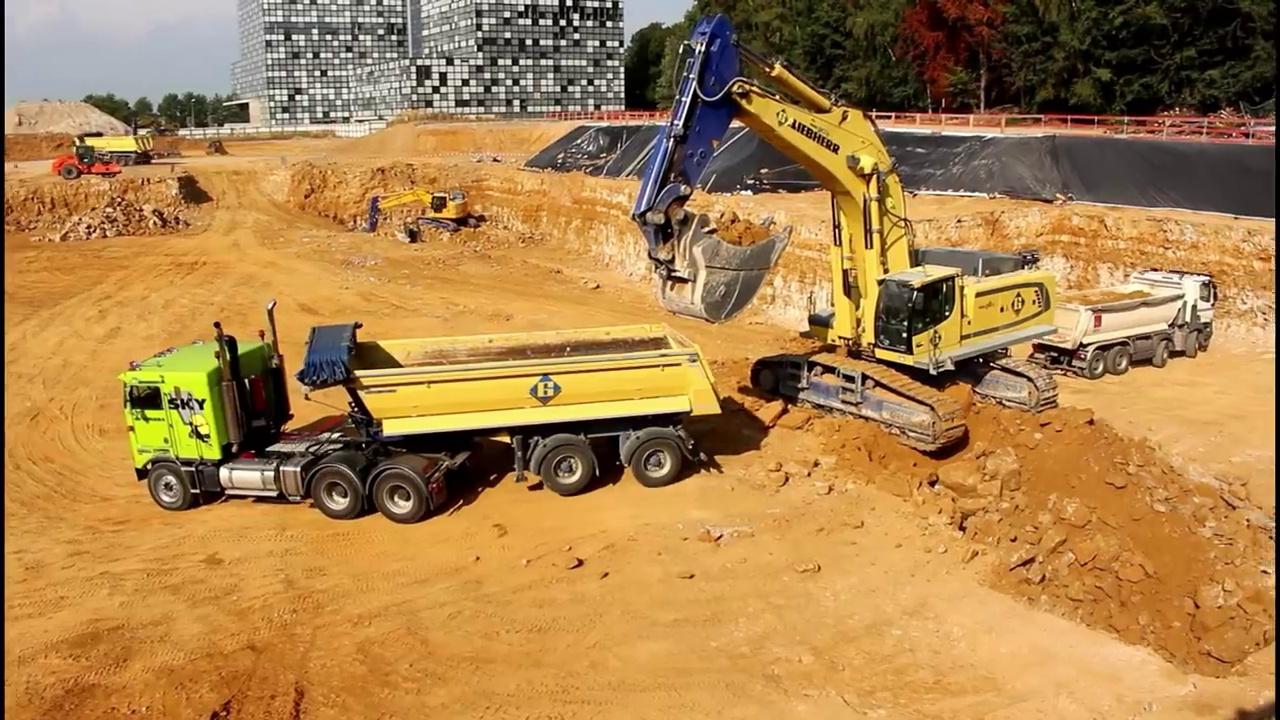compactor: (47, 144, 122, 183)
excavator: (621, 6, 1064, 461), (354, 183, 487, 245), (128, 114, 178, 137)
truck: (115, 295, 735, 530), (1022, 264, 1226, 382), (64, 131, 161, 167)
